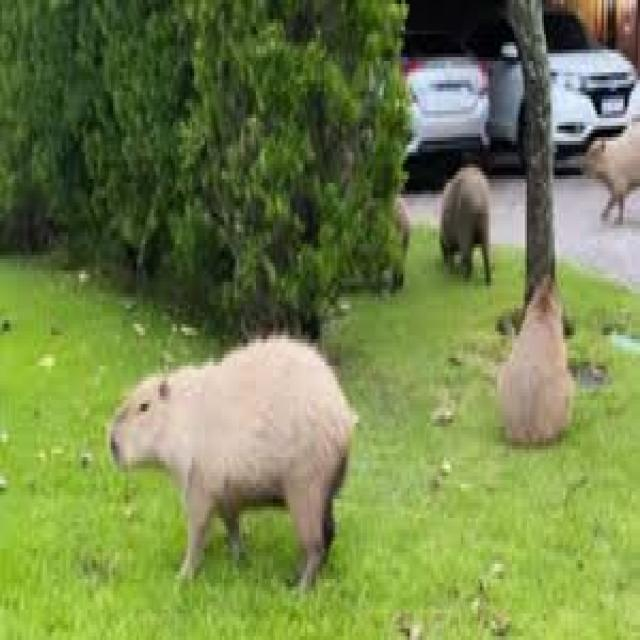capy: (109, 333, 358, 601), (497, 270, 572, 441), (440, 165, 494, 284), (586, 118, 640, 221)
